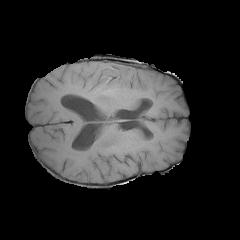glioma: (68, 63, 131, 98)
